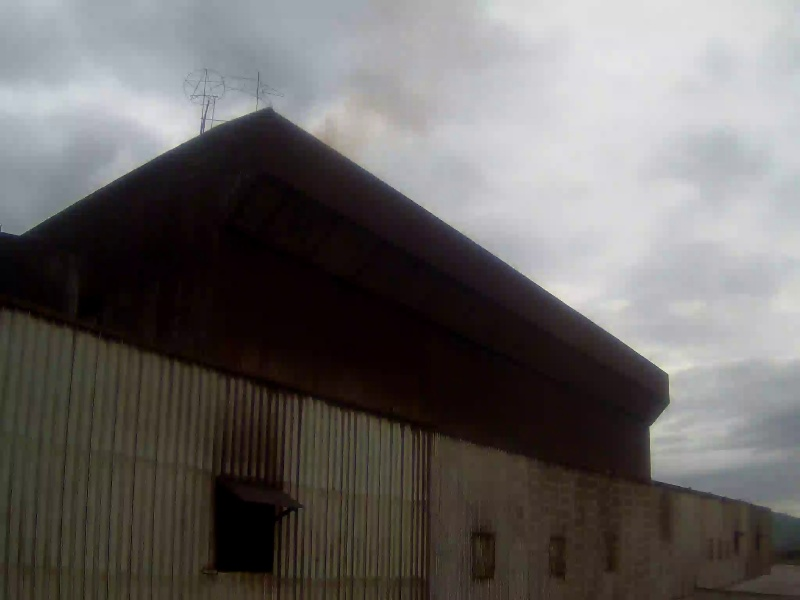bom: (1, 21, 270, 173), (639, 300, 783, 461)
ruim: (263, 9, 684, 413)
